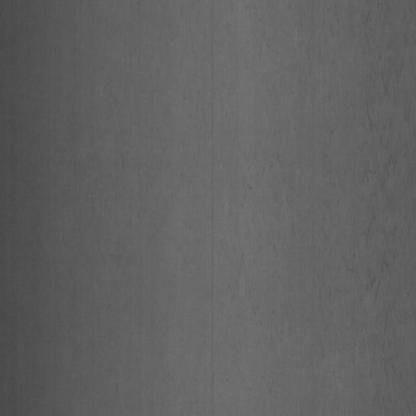silk_spot: (230, 14, 402, 393)
